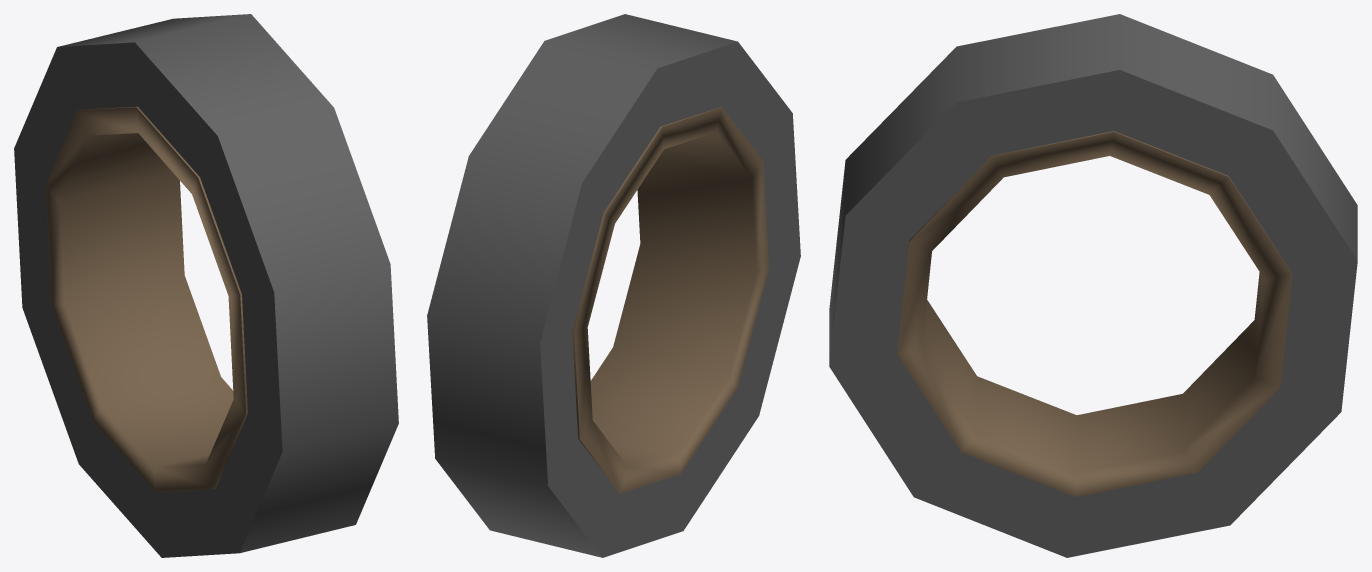
Rendered from Tape 3.fbx.
3 views of the same model, side by side, from view 1: azimuth 30°, elevation 25°; view 2: azimuth 150°, elevation 25°; view 3: azimuth 270°, elevation 25° (orthographic). The views are drawn at different scales.
Parts seen in each view (by area): view 1: polySurface54, pCylinder19; view 2: polySurface54, pCylinder19; view 3: polySurface54, pCylinder19.
Part boxes in pixels (left/top/right/bottom): polySurface54: left=14, top=14, right=398, bottom=557; pCylinder19: left=45, top=106, right=247, bottom=492; polySurface54: left=427, top=14, right=800, bottom=557; pCylinder19: left=572, top=107, right=768, bottom=493; polySurface54: left=829, top=14, right=1357, bottom=557; pCylinder19: left=897, top=131, right=1292, bottom=496.
Bounding box in the file's own units: 0.3902 × 1.54 × 1.51.
